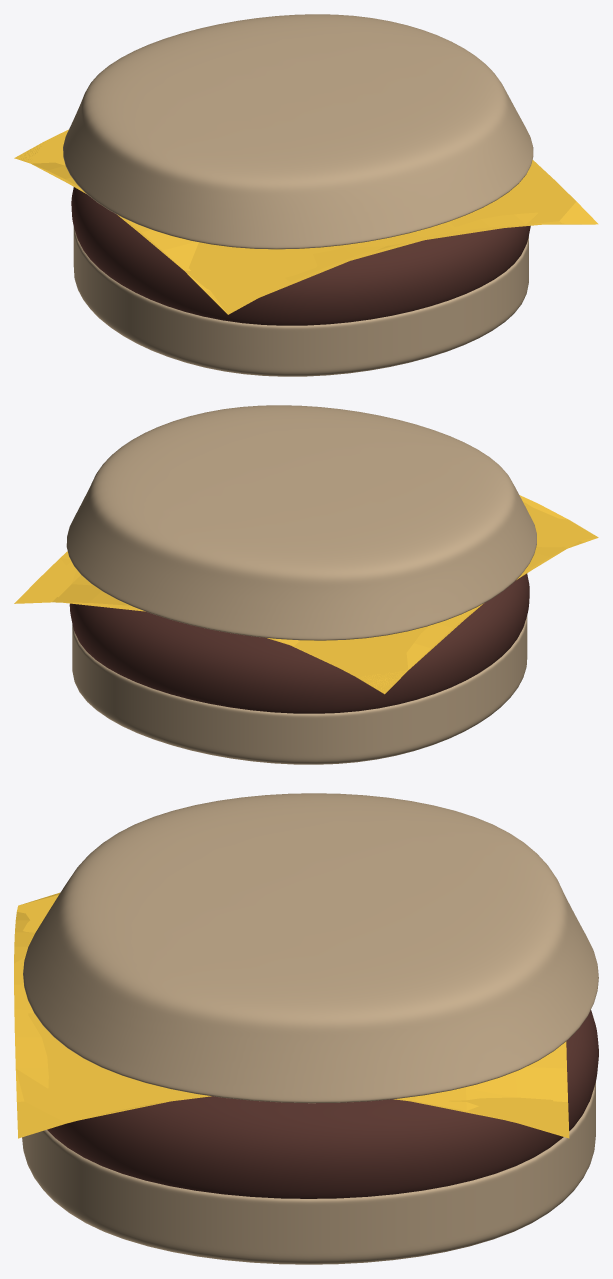
File: hamburger.glb
3 views of the same model, one above another, from view 1: azimuth 30°, elevation 25°; view 2: azimuth 150°, elevation 25°; view 3: azimuth 270°, elevation 25° (orthographic). The views are drawn at different scales.
Visible parts, largest first — view 1: Cube.002, Cube, Cube.001, Plane; view 2: Cube.002, Cube.001, Cube, Plane; view 3: Cube.002, Cube.001, Cube, Plane.
Part boxes in pixels (left/top/right/bottom): Cube.002: left=63, top=14, right=533, bottom=249; Cube: left=73, top=227, right=528, bottom=376; Cube.001: left=71, top=187, right=530, bottom=325; Plane: left=14, top=129, right=598, bottom=314; Cube.002: left=66, top=405, right=536, bottom=640; Cube.001: left=69, top=573, right=529, bottom=713; Cube: left=72, top=616, right=527, bottom=764; Plane: left=14, top=495, right=598, bottom=694; Cube.002: left=23, top=793, right=598, bottom=1103; Cube.001: left=47, top=1010, right=598, bottom=1198; Cube: left=22, top=1082, right=595, bottom=1264; Plane: left=14, top=892, right=569, bottom=1138.
Bounding box in the file's own units: 8.14 × 3.89 × 7.94.
